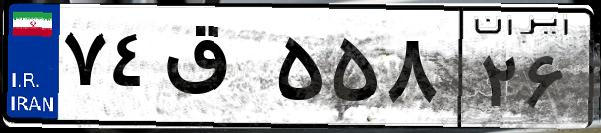2: (475, 38, 525, 113)
4: (110, 28, 158, 98)
5: (270, 28, 330, 110), (330, 28, 385, 110)
6: (525, 38, 570, 115)
7: (57, 26, 110, 100)
8: (385, 28, 445, 110)
ق: (158, 20, 270, 120)
